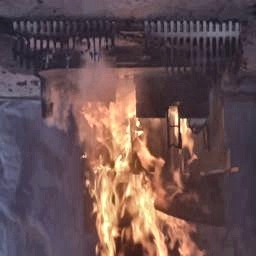fire: (59, 88, 235, 256)
